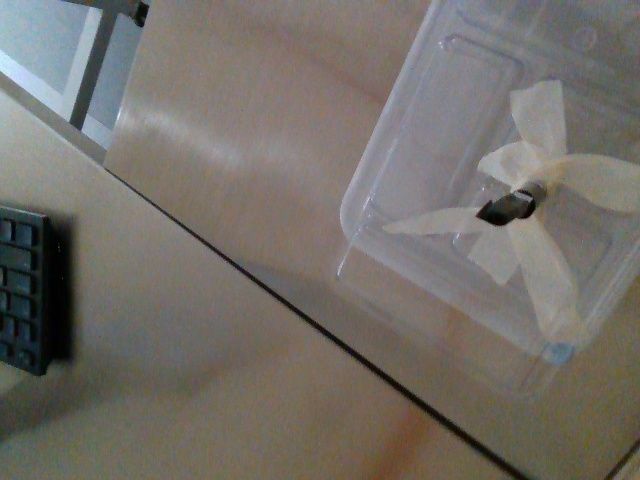test_strip: (476, 190, 533, 225)
